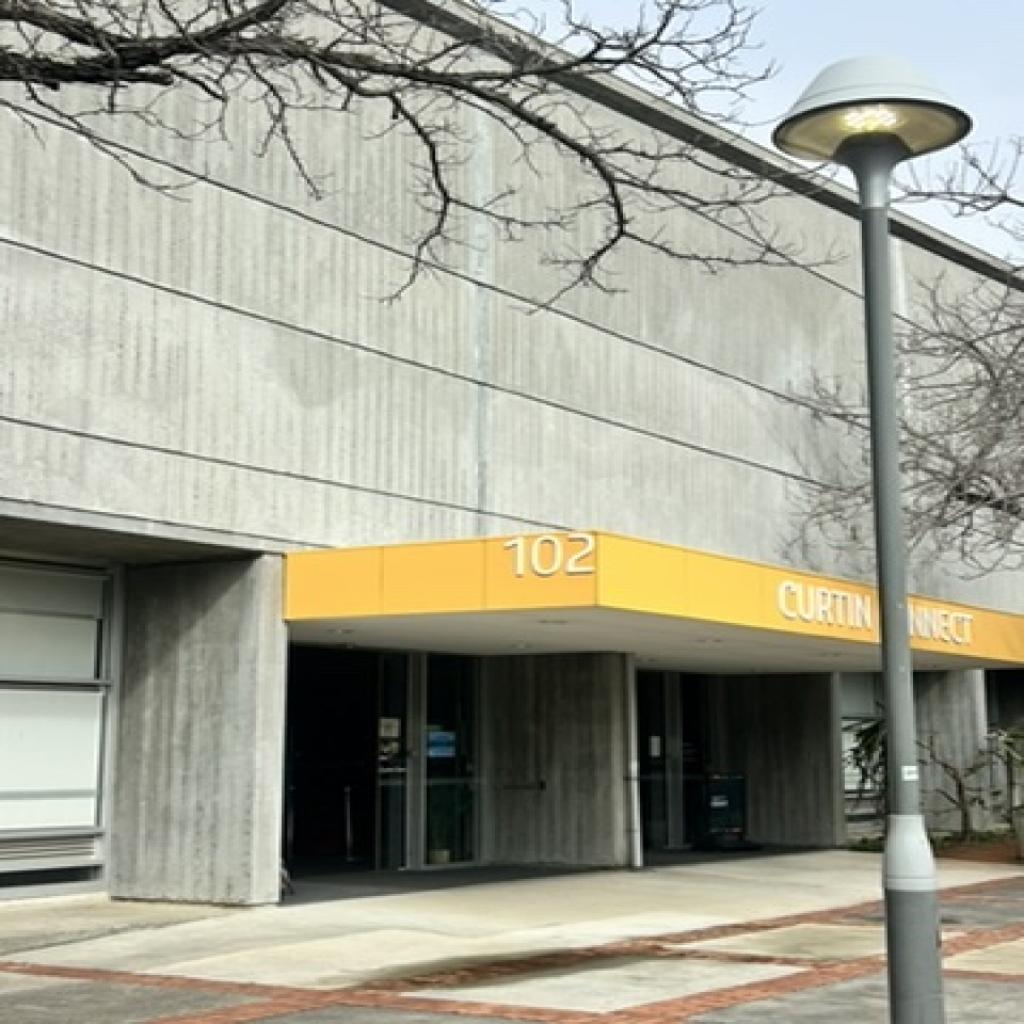BuildingCodes: (501, 530, 597, 580)
